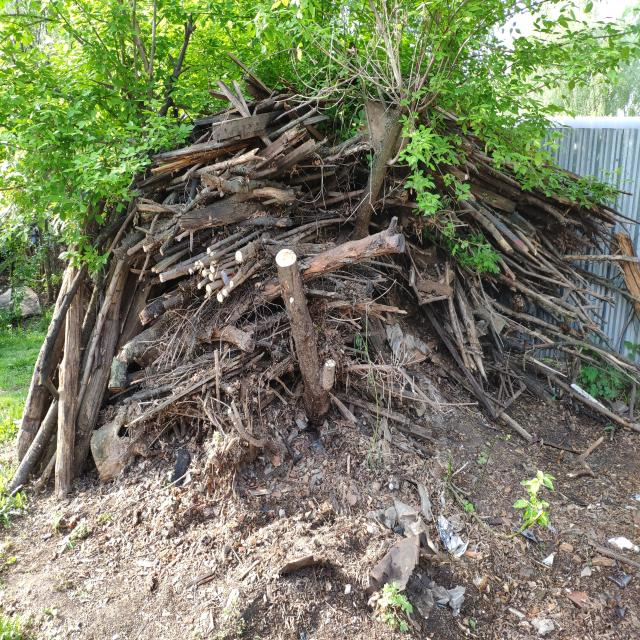restos de madeira: (13, 258, 88, 455), (472, 223, 577, 326), (275, 250, 332, 421), (442, 166, 537, 263), (10, 360, 78, 494), (424, 269, 490, 397), (351, 98, 413, 231), (495, 314, 584, 406), (298, 219, 410, 284), (187, 233, 273, 312), (55, 265, 84, 495), (478, 285, 560, 362), (96, 218, 144, 344), (150, 131, 275, 179), (144, 346, 232, 412), (156, 210, 238, 276), (91, 392, 146, 483), (82, 239, 106, 437), (213, 95, 307, 141), (325, 273, 396, 331), (535, 332, 625, 375), (264, 137, 326, 185), (165, 291, 216, 343), (311, 132, 369, 175), (220, 396, 263, 452), (201, 322, 255, 357), (306, 185, 368, 215), (251, 182, 305, 216), (138, 287, 182, 328), (336, 357, 411, 381), (558, 250, 636, 268), (243, 217, 294, 227)
